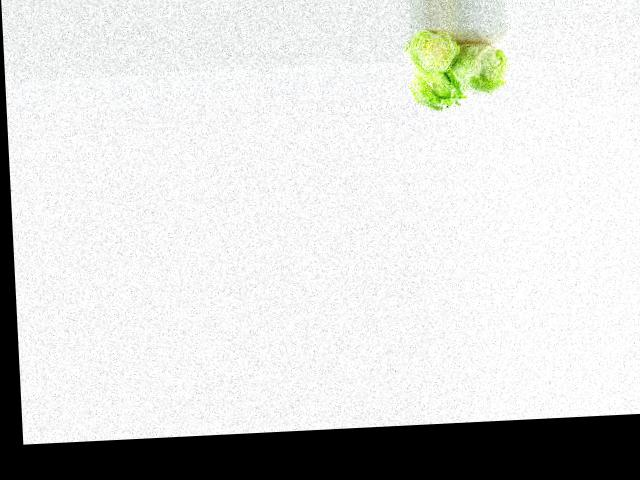lettuce: (407, 65, 470, 117)
